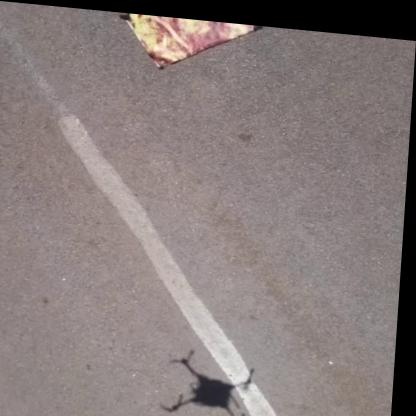fire-poster: (114, 9, 264, 73)
